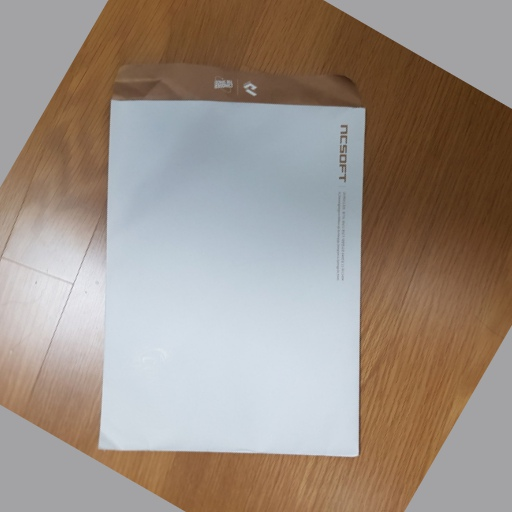Paper_2: (94, 58, 372, 469)
